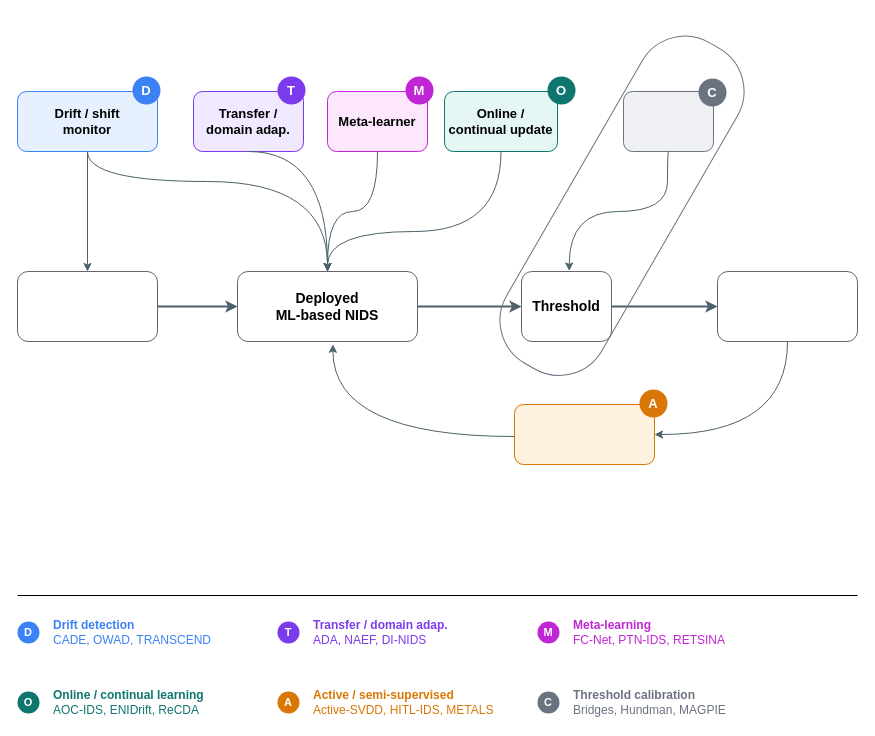
Image size: 875x736. Some labels were removed from this diagram. The shapes that lost their labels are listed below. From the top down, each one's box as (x1, y1, x2, y2) in pixels, then its label:
(622, 90, 714, 152): Threshold calibration
(481, 17, 762, 394): Anomaly Detection NIDS
(16, 270, 158, 342): Incoming traffic
(716, 270, 858, 342): Alerts
(514, 404, 654, 464): Few labels / pseudo-labels
